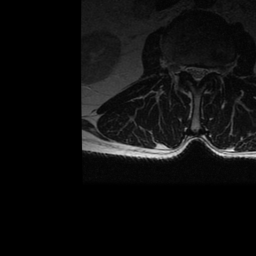CCS_normal: (193, 58, 200, 90)
LFS_stenosis: (208, 60, 216, 80)
LLS_stenosis: (200, 61, 208, 83)
RFS_normal: (178, 58, 186, 78)
RLS_normal: (187, 58, 193, 81)
